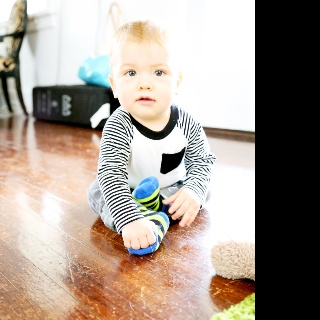without_mask: (116, 39, 178, 119)
